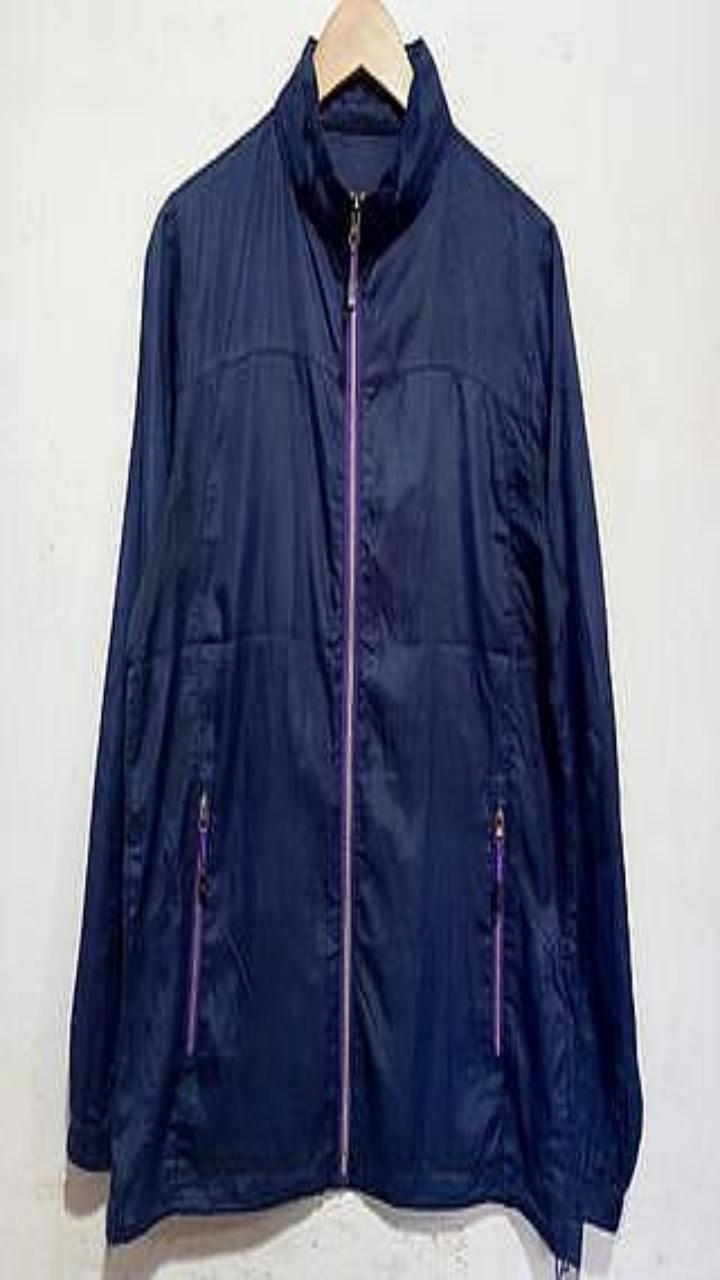Sports_Jacket: (67, 36, 642, 1268)
